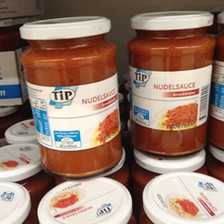tomato_sauce: (18, 16, 124, 176), (129, 9, 216, 156)
